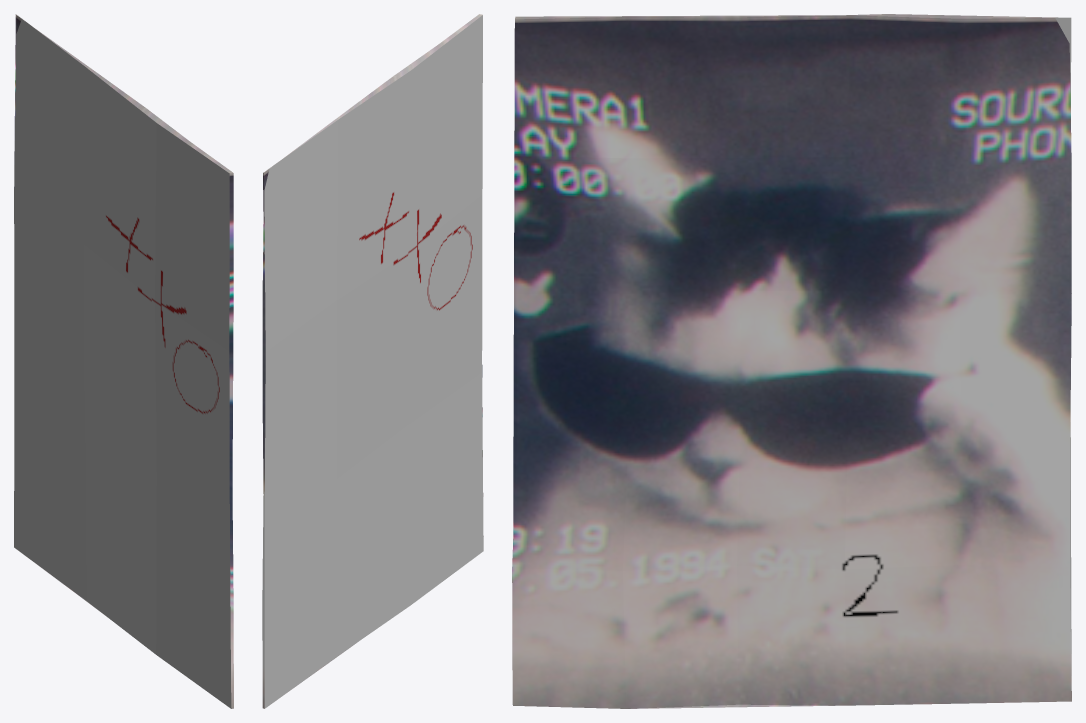
File: Poster xx0.fbx
3 renders of one model, left to right at view 1: azimuth 30°, elevation 25°; view 2: azimuth 150°, elevation 25°; view 3: azimuth 270°, elevation 25°, orthographic. The views are drawn at different scales.
Parts seen in each view (by area): view 1: Plane.005; view 2: Plane.005; view 3: Plane.005.
Boxes of the visible parts, <box> form: Plane.005: <box>14,14,233,708</box>; Plane.005: <box>262,14,483,708</box>; Plane.005: <box>512,14,1071,708</box>.
Bounding box in the file's own units: 3.44 × 275 × 202.
Materials: 2 (2 with a texture image).
